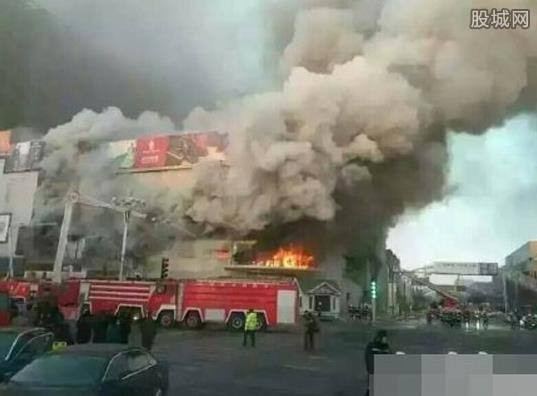fire: (250, 237, 321, 269)
